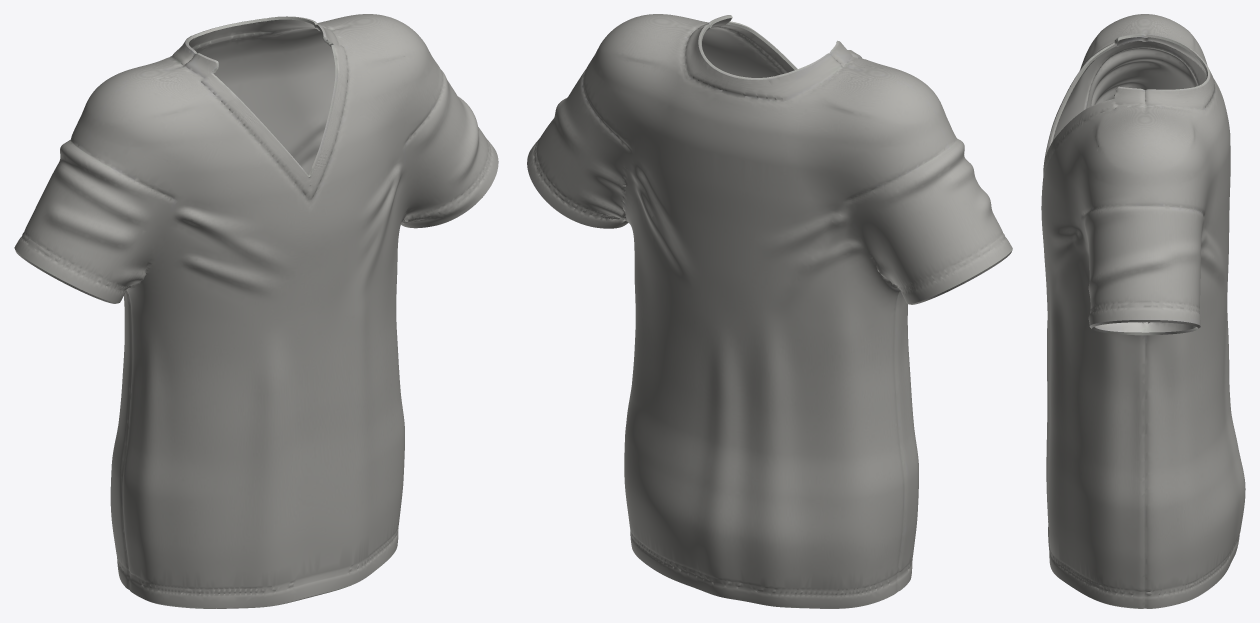
Rendered from 09_camiseta_pico_pbr.glb.
3 views of the same model, side by side, from view 1: azimuth 30°, elevation 25°; view 2: azimuth 150°, elevation 25°; view 3: azimuth 270°, elevation 25° (orthographic). The views are drawn at different scales.
Parts seen in each view (by area): view 1: Camiseta PBR; view 2: Camiseta PBR; view 3: Camiseta PBR.
Part boxes in pixels (x1=…): Camiseta PBR: x1=14, y1=14, x2=498, y2=608; Camiseta PBR: x1=527, y1=14, x2=1012, y2=608; Camiseta PBR: x1=1041, y1=14, x2=1245, y2=608.
Bounding box in the file's own units: 0.6812 × 0.7328 × 0.2765.
1 material, 1 textured.
